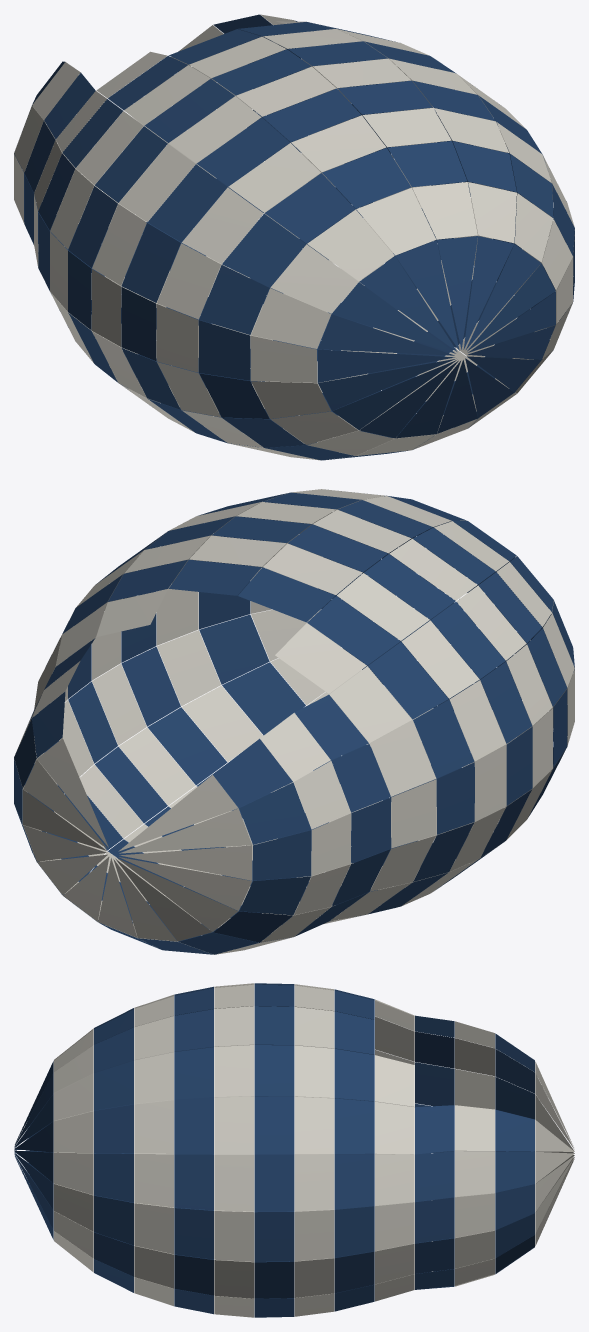
Rendered from wear_stripes.glb.
3 renders of one model, top to bottom at view 1: azimuth 30°, elevation 25°; view 2: azimuth 150°, elevation 25°; view 3: azimuth 270°, elevation 25°, orthographic. The views are drawn at different scales.
Visible parts, largest first — view 1: Item; view 2: Item; view 3: Item.
Boxes of the visible parts, box(x1,y1,x2,y2) form: Item: box(14, 14, 574, 460); Item: box(14, 489, 574, 954); Item: box(14, 983, 574, 1317).
Bounding box in the file's own units: 0.6168 × 0.48 × 0.8444.
